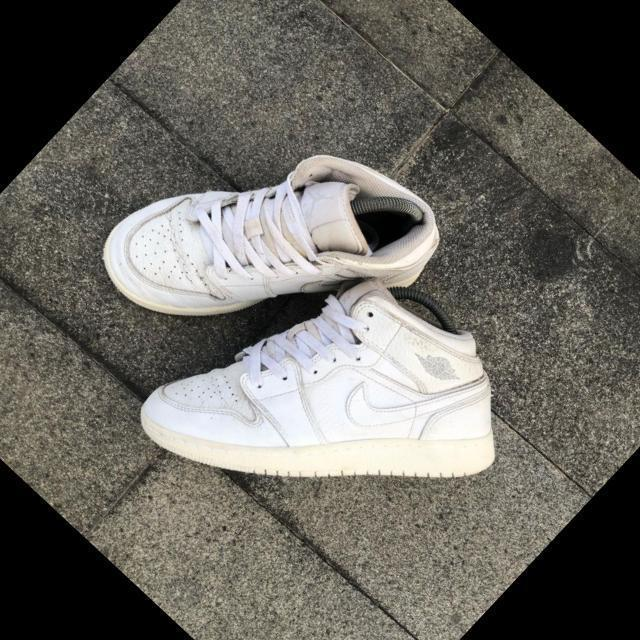nike fake jordan 1: (121, 201, 550, 628), (84, 57, 460, 434)
